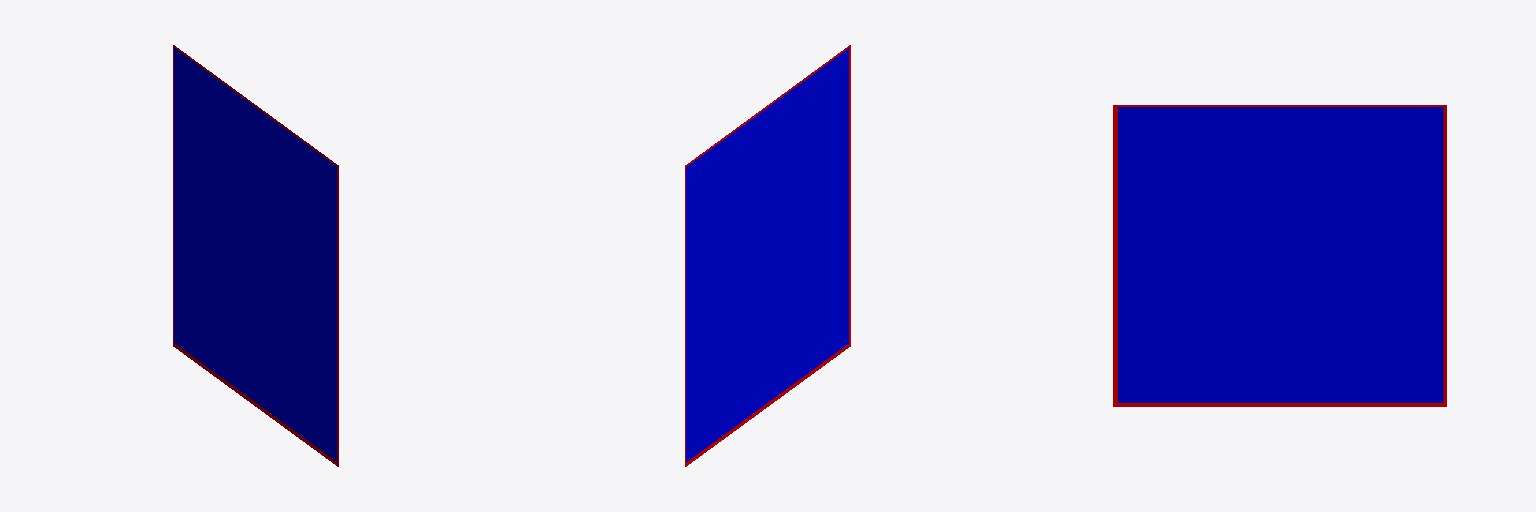
The picture shows the model from 3 angles: view 1: azimuth 30°, elevation 25°; view 2: azimuth 150°, elevation 25°; view 3: azimuth 270°, elevation 25°; orthographic projection.
Visible parts, largest first — view 1: Plane; view 2: Plane; view 3: Plane.
Boxes of the visible parts, x1,y1,x2,y2 form: Plane: [173, 45, 338, 466]; Plane: [685, 45, 850, 466]; Plane: [1113, 105, 1446, 406].
Bounding box in the file's own units: 0 × 2 × 2.
Materials: 1 (1 with a texture image).